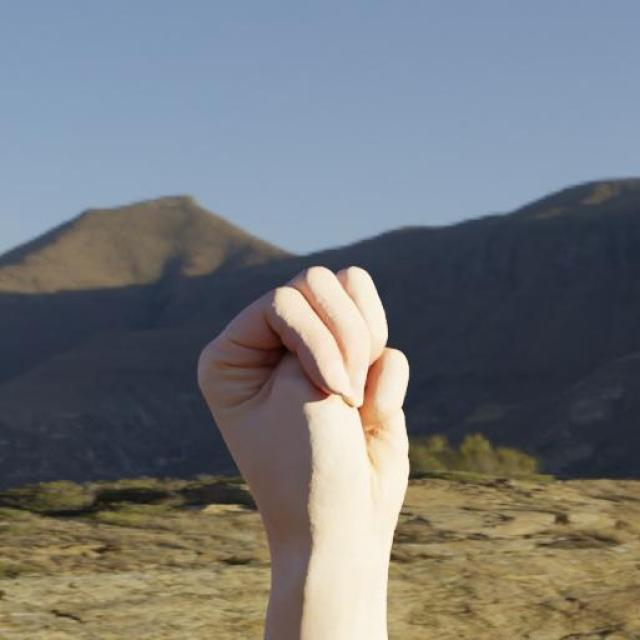M: (192, 263, 414, 536)
